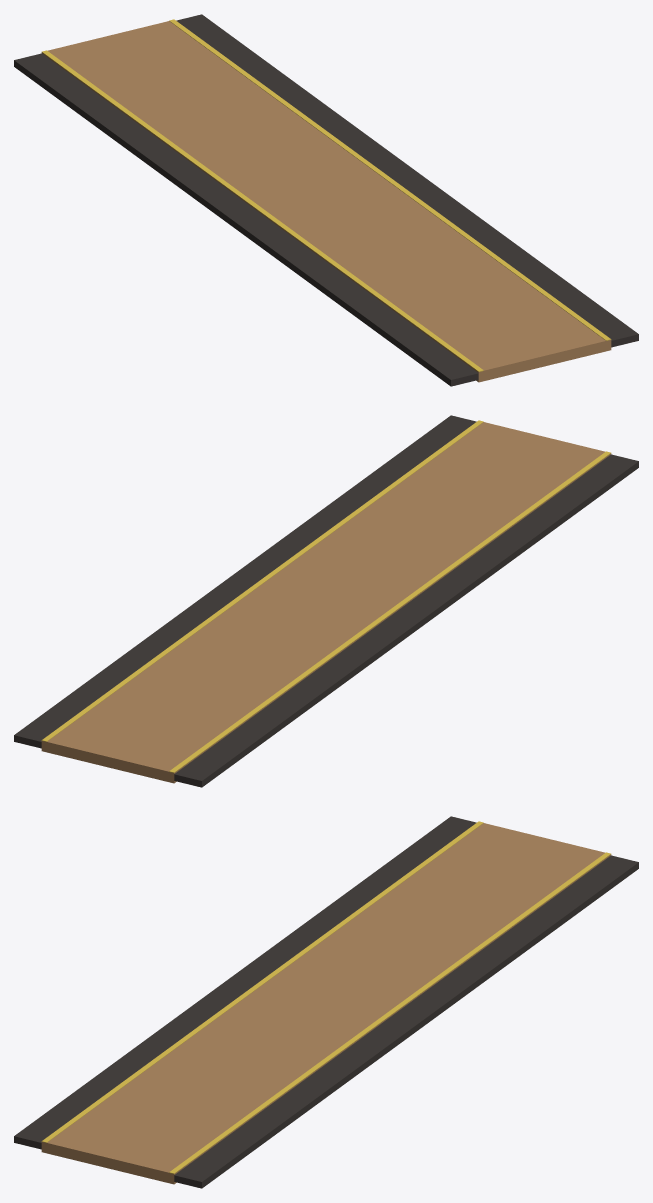
Rendered from bowling_lane.glb.
The picture shows the model from 3 angles, top to bottom: view 1: azimuth 30°, elevation 25°; view 2: azimuth 150°, elevation 25°; view 3: azimuth 330°, elevation 25°; orthographic projection.
Parts seen in each view (by area): view 1: Mat_Lane_Wood, Mat_Gutter, Mat_Kente_Trim; view 2: Mat_Lane_Wood, Mat_Gutter, Mat_Kente_Trim; view 3: Mat_Lane_Wood, Mat_Gutter, Mat_Kente_Trim.
Boxes of the visible parts, x1=… form: Mat_Lane_Wood: x1=41, y1=21, x2=611, y2=382; Mat_Gutter: x1=14, y1=14, x2=638, y2=386; Mat_Kente_Trim: x1=42, y1=19, x2=611, y2=371; Mat_Lane_Wood: x1=41, y1=422, x2=611, y2=783; Mat_Gutter: x1=14, y1=415, x2=638, y2=787; Mat_Kente_Trim: x1=41, y1=420, x2=610, y2=772; Mat_Lane_Wood: x1=41, y1=823, x2=611, y2=1184; Mat_Gutter: x1=14, y1=816, x2=638, y2=1188; Mat_Kente_Trim: x1=41, y1=821, x2=610, y2=1173.
Bounding box in the file's own units: 1.49 × 0.0835 × 6.
